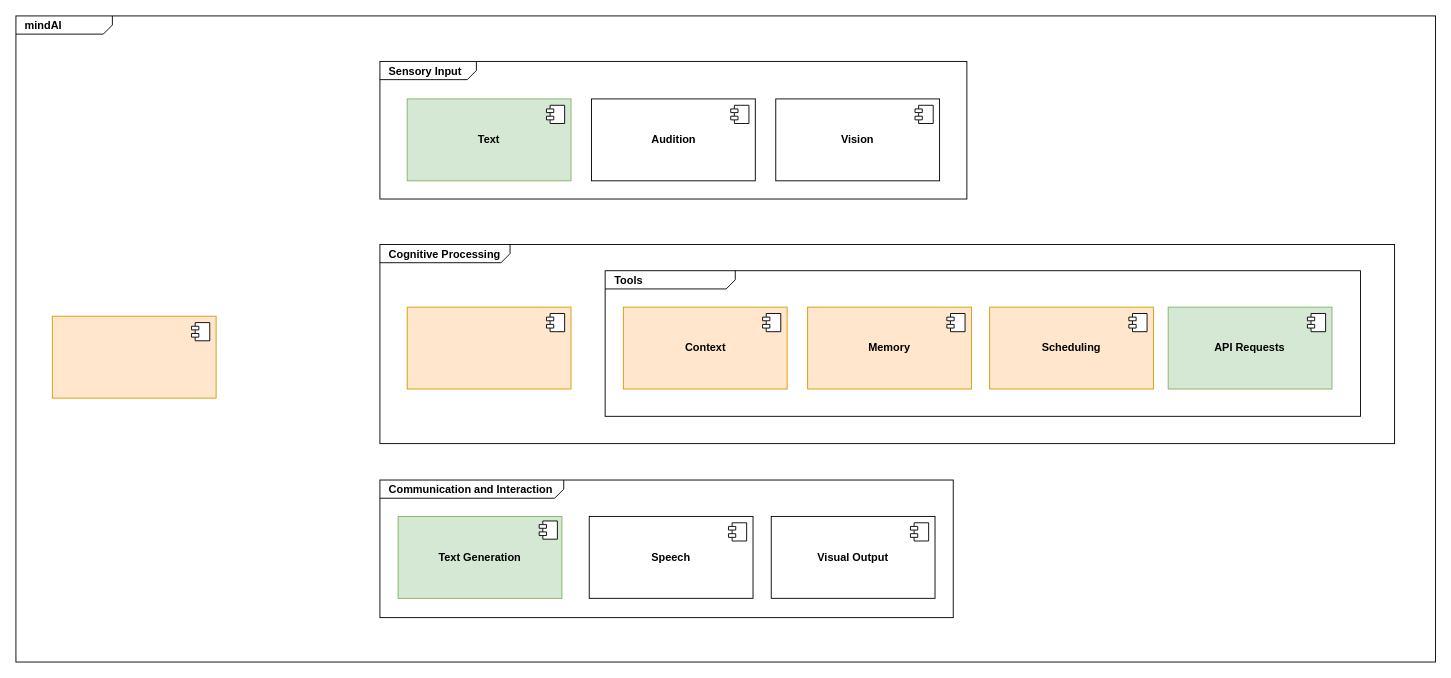
The diagram is 1451 pixels wide and 678 high, and some of its shapes have lost their labels. Here are the shapes that lost their labels. From the top down, the centre of each, then its label:
the point at 133,356: Core
the point at 488,347: Reasoning
